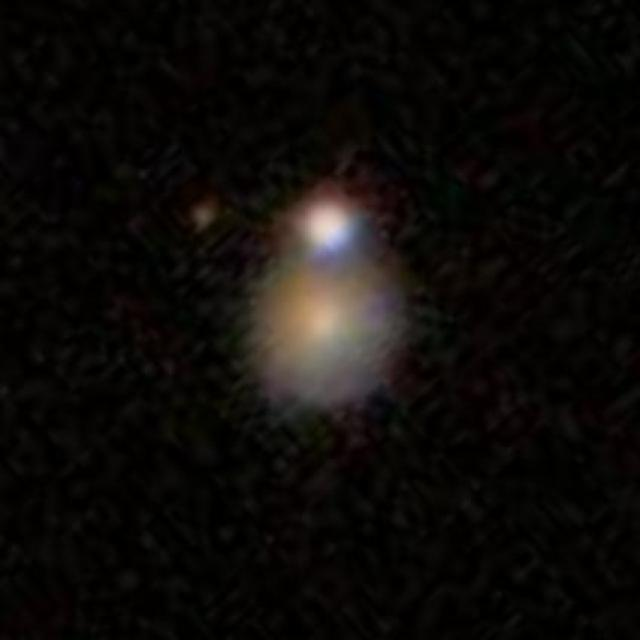galaxy: (246, 250, 417, 433), (268, 178, 390, 269), (186, 195, 225, 236)
